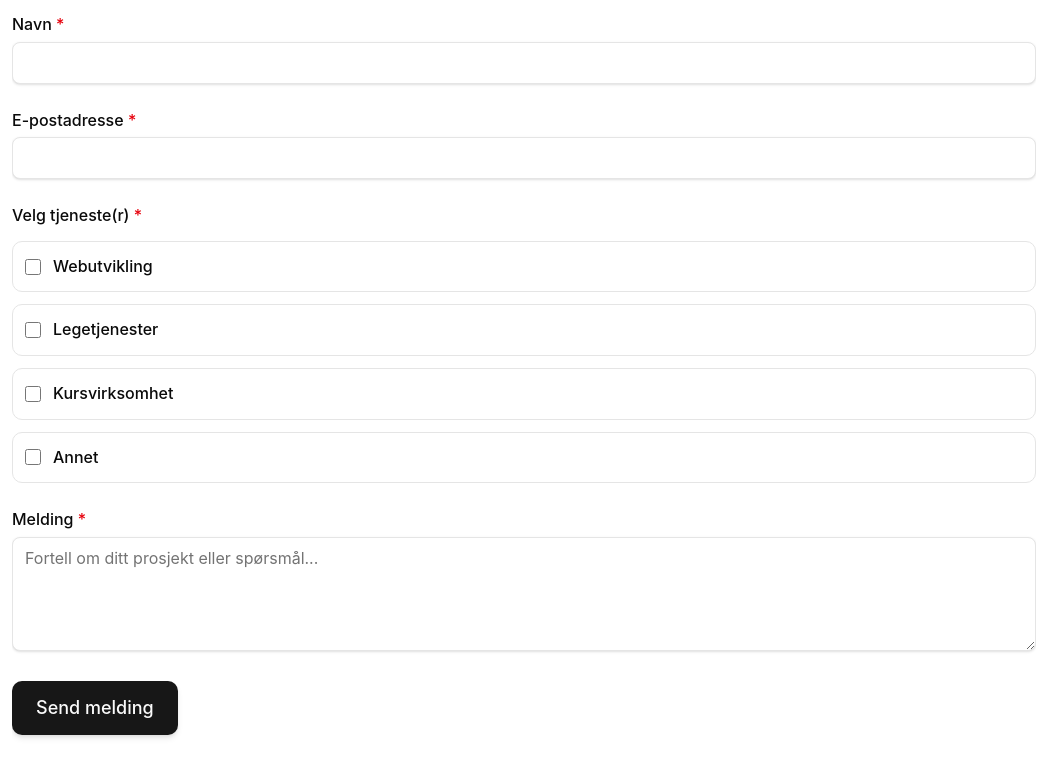
it: ContactForm Component › shows validation errors for empty required fields
The width and height of the screenshot is (1048, 780).
What coordinates should you click on to do the following:
click the submit button
I would click on:
 (95, 708)
Its box is [12,681,178,735].
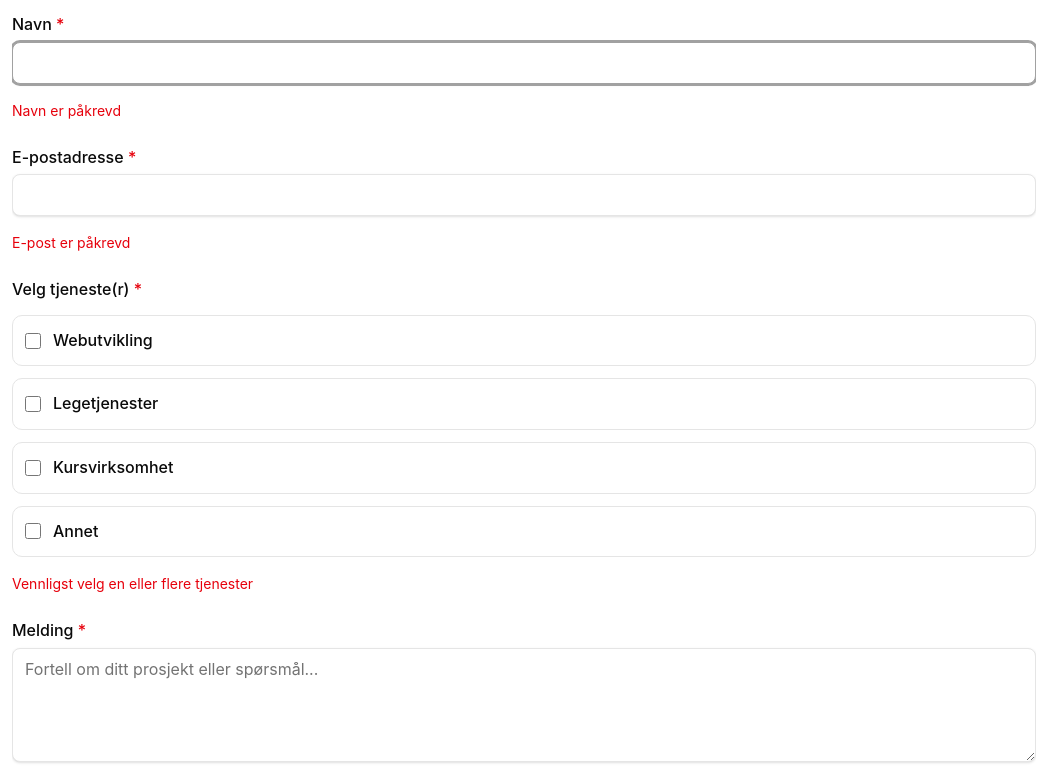
Expected: the text "Navn er påkrevd" is shown, [12,102,121,119]
